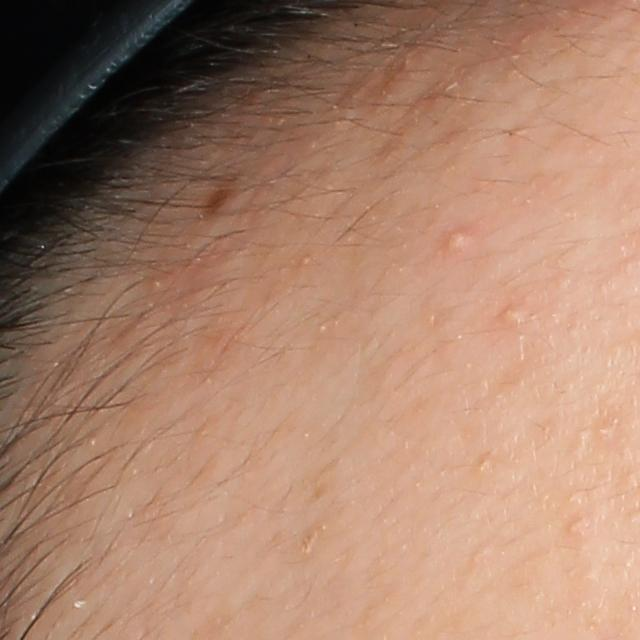comedo: (564, 515, 590, 541), (500, 304, 528, 327), (595, 422, 615, 442)
pustule: (444, 227, 475, 255)
